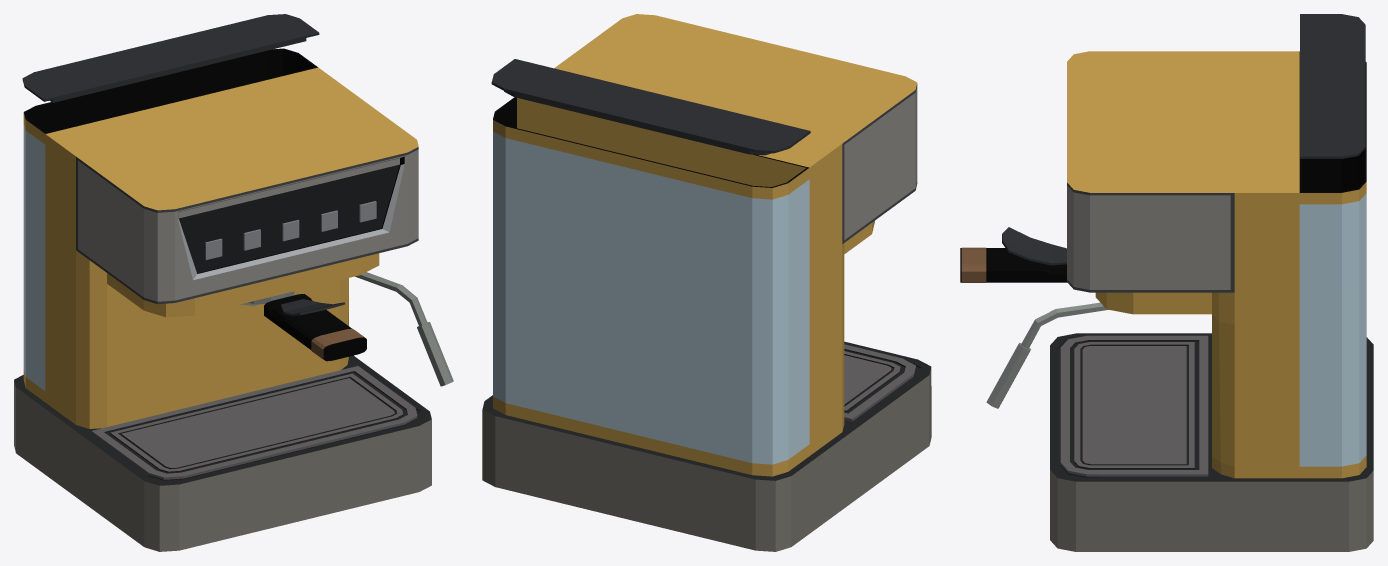
Rendered from coffeemaker_01_D.gltf.
3 views of the same model, side by side, from view 1: azimuth 30°, elevation 25°; view 2: azimuth 150°, elevation 25°; view 3: azimuth 270°, elevation 25° (orthographic). The views are drawn at different scales.
Visible parts, largest first — view 1: coffeemaker_01_D, Capforcoffemaker_01_D, leverarmforcoffemaker_01_D; view 2: coffeemaker_01_D, Capforcoffemaker_01_D; view 3: coffeemaker_01_D, Capforcoffemaker_01_D, leverarmforcoffemaker_01_D.
Part boxes in pixels (<box>): coffeemaker_01_D: <box>14,48,453,551</box>; Capforcoffemaker_01_D: <box>22,14,319,102</box>; leverarmforcoffemaker_01_D: <box>240,291,366,361</box>; coffeemaker_01_D: <box>482,14,931,551</box>; Capforcoffemaker_01_D: <box>491,59,810,155</box>; coffeemaker_01_D: <box>986,51,1373,551</box>; Capforcoffemaker_01_D: <box>1300,14,1365,158</box>; leverarmforcoffemaker_01_D: <box>960,227,1066,282</box>.
Bounding box in the file's own units: 0.26 × 0.3211 × 0.3066.
1 material, 1 textured.
